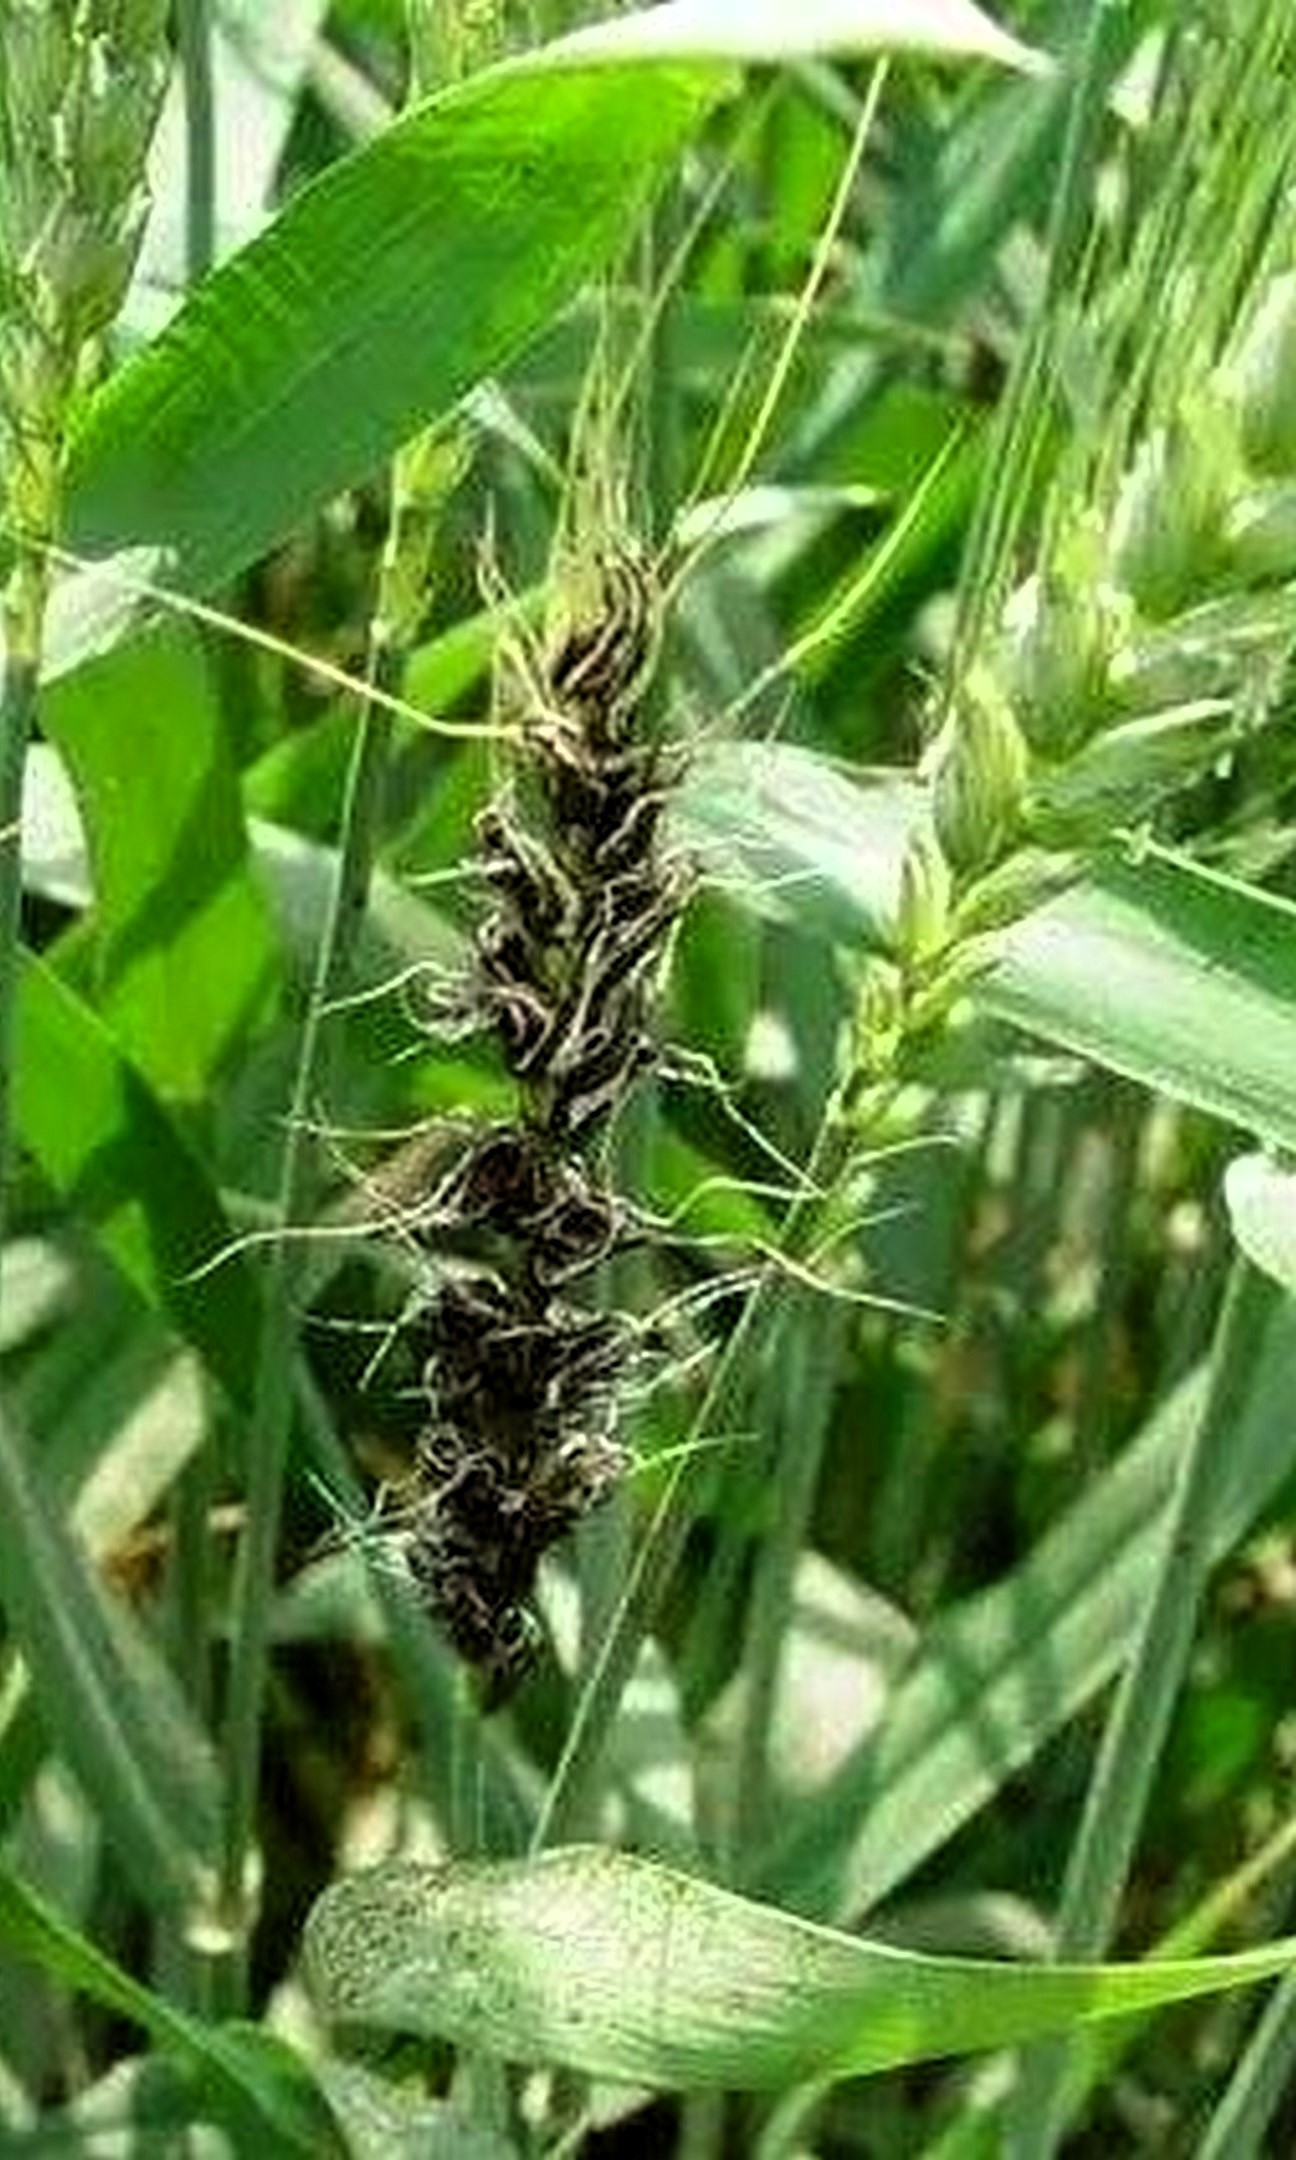Wheat Loose Smut: (310, 494, 747, 1611)
